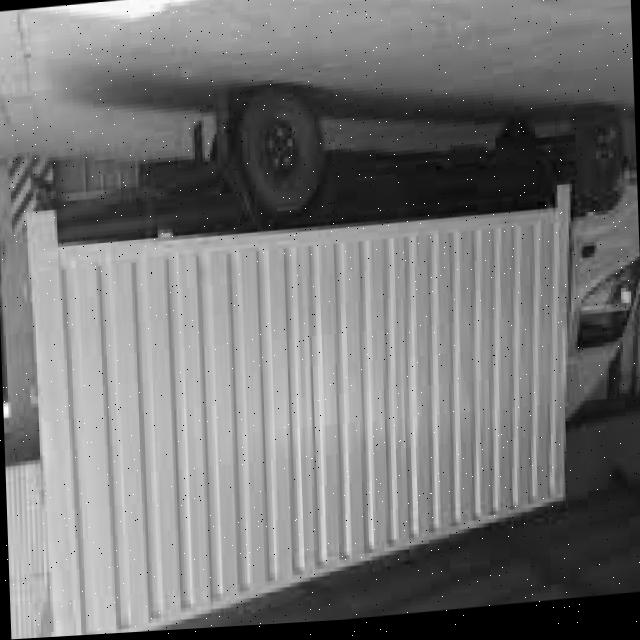truck: (534, 103, 640, 450)
